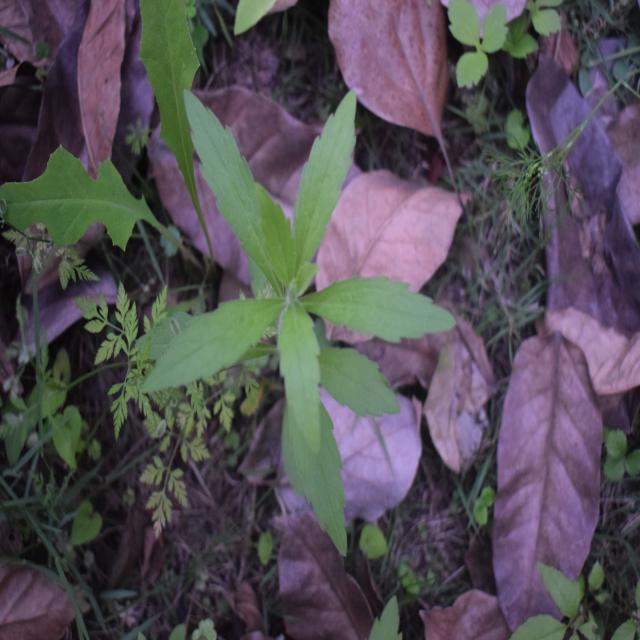horseweed: (168, 118, 428, 490)
